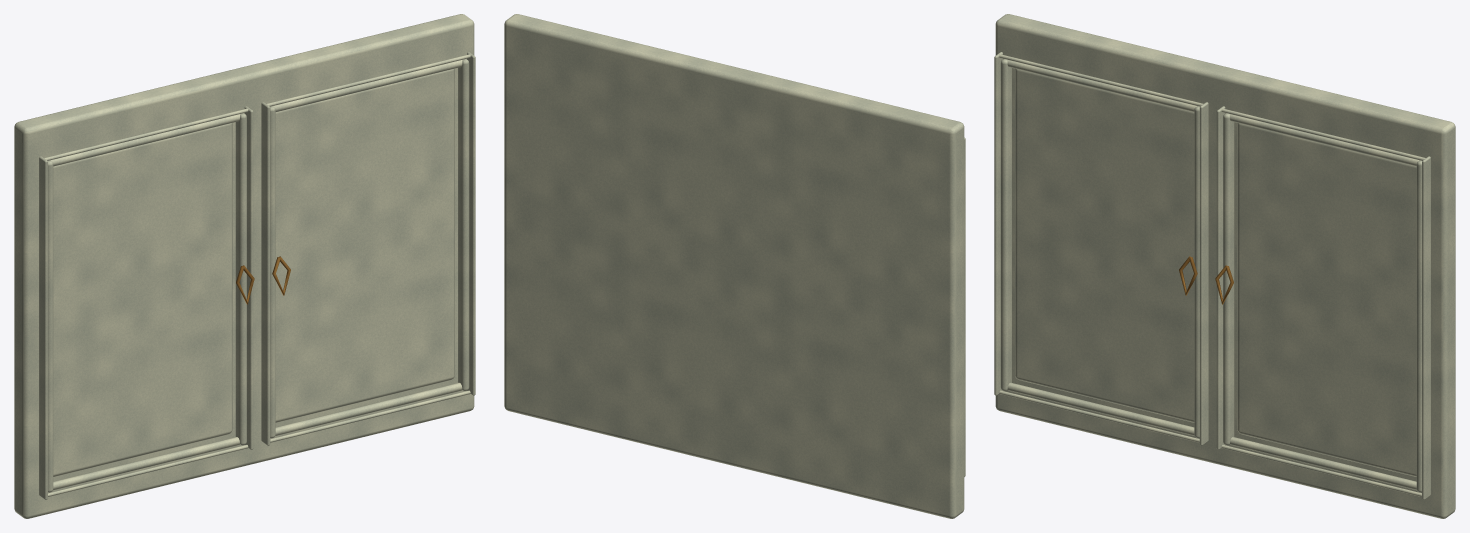
The model's file is KitchenLeaf.fbx.
3 renders of one model, left to right at view 1: azimuth 30°, elevation 25°; view 2: azimuth 150°, elevation 25°; view 3: azimuth 330°, elevation 25°, orthographic.
Visible parts, largest first — view 1: KitchenLeaf_Enamel, KitchenLeaf_Brass; view 2: KitchenLeaf_Enamel; view 3: KitchenLeaf_Enamel, KitchenLeaf_Brass.
Part boxes in pixels (<box>): KitchenLeaf_Enamel: <box>14,14,475,518</box>; KitchenLeaf_Brass: <box>236,256,290,304</box>; KitchenLeaf_Enamel: <box>504,14,965,518</box>; KitchenLeaf_Enamel: <box>994,14,1455,518</box>; KitchenLeaf_Brass: <box>1179,256,1233,304</box>.
Size of the model in its own units: 136 by 113 by 14.75.
